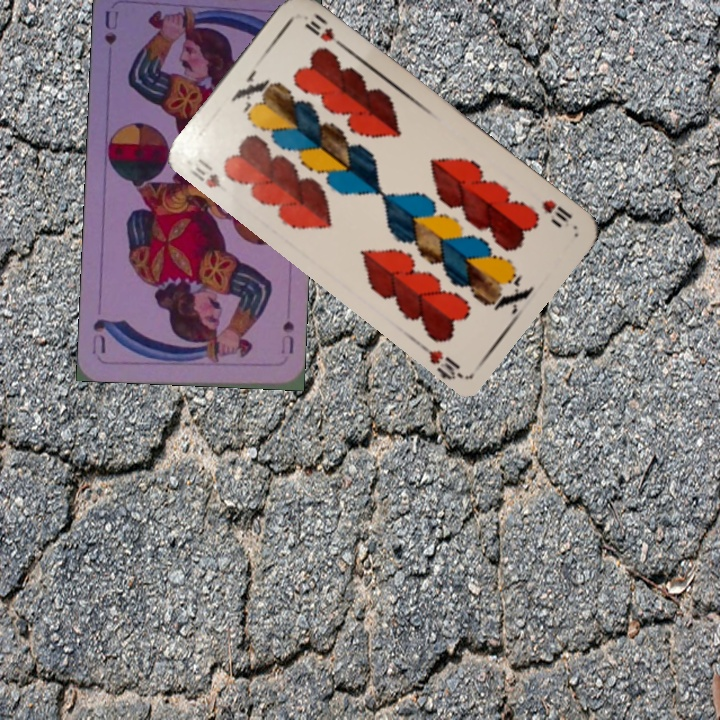H10: (186, 154, 224, 191), (538, 195, 575, 231)
SU: (100, 6, 121, 48), (277, 317, 297, 357)
